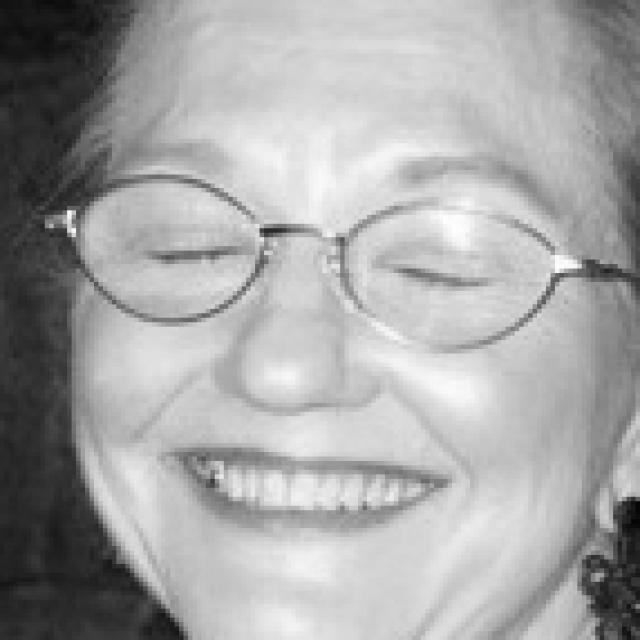real: (90, 0, 533, 636), (136, 186, 538, 321)
